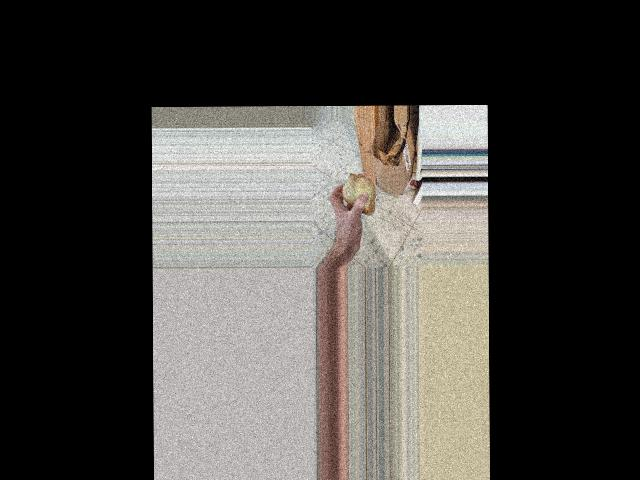onion: (338, 171, 379, 217)
